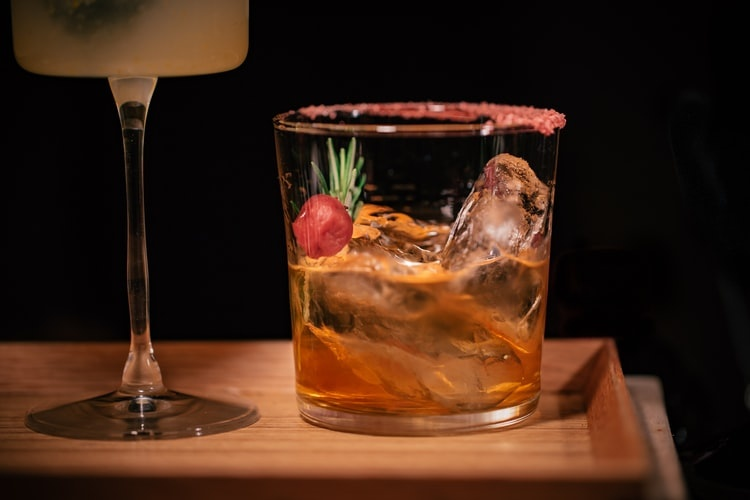whiskey: (264, 101, 553, 424)
